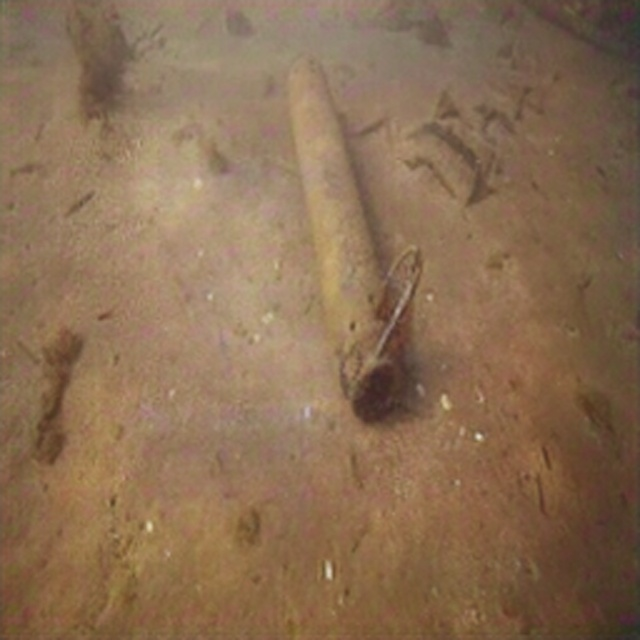mine: (286, 49, 402, 422)
